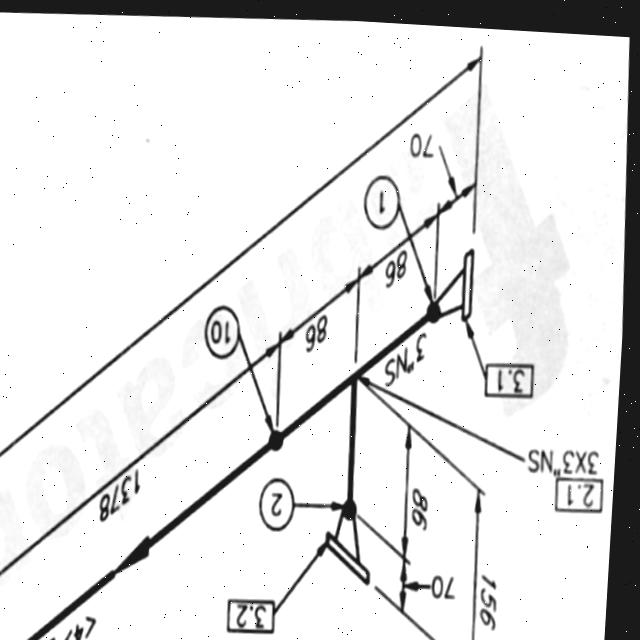Item number: (231, 590, 283, 634), (558, 466, 610, 507), (486, 353, 539, 392)
Measrement: (0, 22, 480, 504), (0, 323, 281, 626), (397, 100, 475, 218), (359, 197, 440, 310), (281, 264, 361, 374), (468, 464, 508, 640), (405, 412, 435, 551), (401, 554, 464, 610), (384, 318, 431, 385), (526, 435, 607, 471)
Pipeline: (26, 301, 430, 640)
Symbol: (265, 228, 487, 583), (324, 488, 383, 586), (425, 234, 484, 324), (119, 522, 164, 576)
Weld number: (363, 166, 405, 225), (262, 469, 301, 531), (205, 299, 245, 358)
